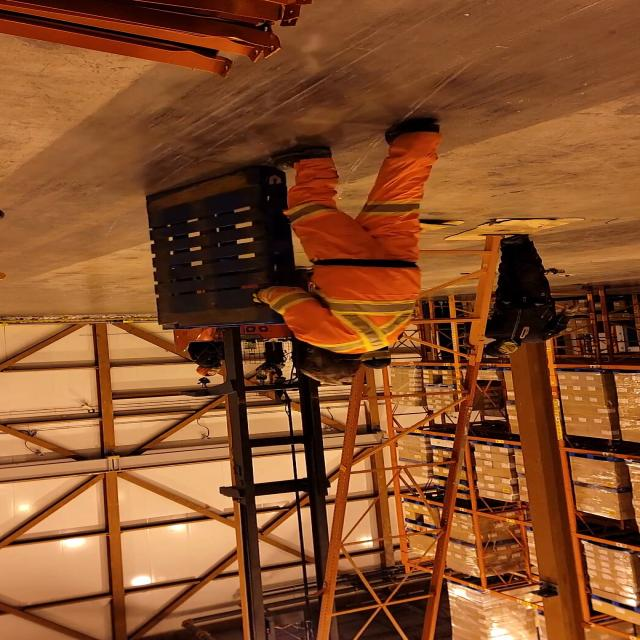forklift: (167, 254, 372, 502)
human: (268, 113, 461, 376), (474, 232, 584, 358), (180, 342, 258, 380)
objectofinterest: (310, 232, 518, 640), (137, 164, 292, 332), (436, 216, 590, 246), (419, 217, 465, 235)
